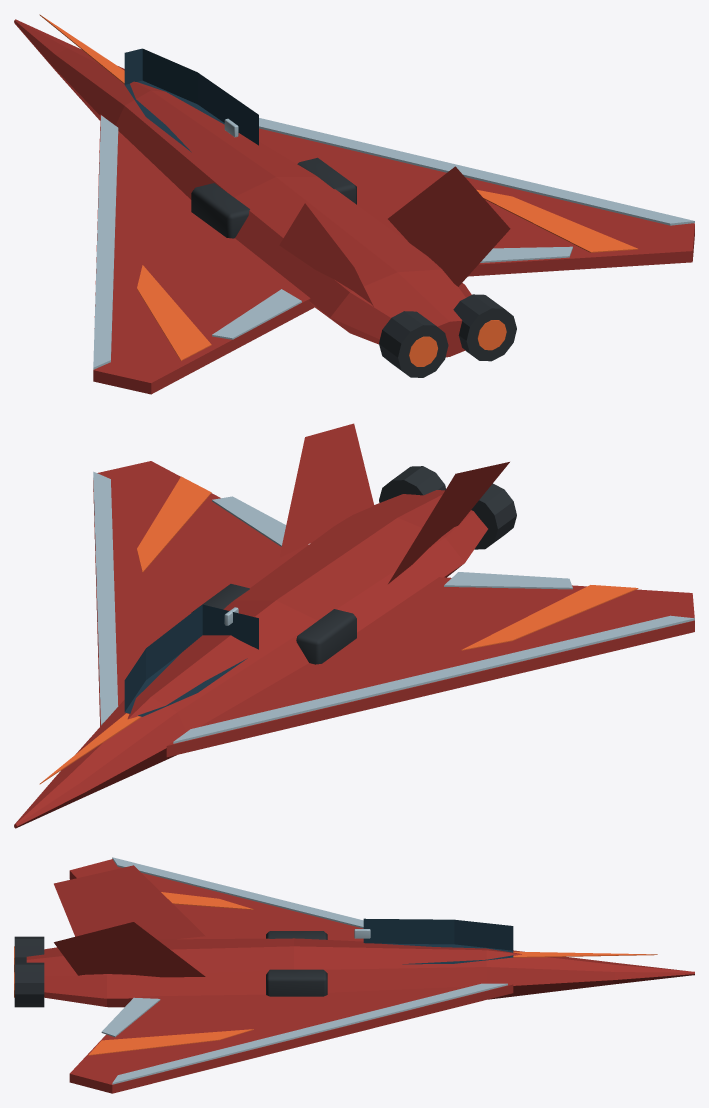
Rendered from jet.glb.
3 views of the same model, one above another, from view 1: azimuth 30°, elevation 25°; view 2: azimuth 150°, elevation 25°; view 3: azimuth 270°, elevation 25° (orthographic). The views are drawn at different scales.
Visible parts, largest first — view 1: Faceted lifting fuselage, Swept delta wing -1, Swept delta wing 1, Canted tail stabilizer 1, Navy armored canopy, Silver leading-edge rail 1, Silver leading-edge rail -1, Canted tail stabilizer -1, Twin jet exhaust -1, Orange wing slash 1, Orange wing slash -1, Twin jet exhaust 1 (+7 smaller); view 2: Faceted lifting fuselage, Swept delta wing -1, Swept delta wing 1, Canted tail stabilizer 1, Silver leading-edge rail -1, Navy armored canopy, Silver leading-edge rail 1, Canted tail stabilizer -1, Orange wing slash -1, Orange wing slash 1, Shoulder intake -1, Twin jet exhaust -1 (+4 smaller); view 3: Faceted lifting fuselage, Swept delta wing 1, Canted tail stabilizer -1, Swept delta wing -1, Canted tail stabilizer 1, Navy armored canopy, Silver leading-edge rail 1, Silver leading-edge rail -1, Shoulder intake 1, Orange wing slash 1, Twin jet exhaust 1, Inset elevon 1 (+4 smaller).
Boxes of the visible parts, left/top/right/bottom form: Faceted lifting fuselage: left=14, top=19, right=471, bottom=357; Swept delta wing -1: left=93, top=114, right=314, bottom=394; Swept delta wing 1: left=259, top=128, right=694, bottom=276; Canted tail stabilizer 1: left=388, top=166, right=510, bottom=286; Navy armored canopy: left=124, top=48, right=258, bottom=152; Silver leading-edge rail 1: left=259, top=118, right=694, bottom=225; Silver leading-edge rail -1: left=93, top=115, right=118, bottom=369; Canted tail stabilizer -1: left=279, top=203, right=373, bottom=306; Twin jet exhaust -1: left=379, top=311, right=448, bottom=377; Orange wing slash 1: left=476, top=189, right=638, bottom=252; Orange wing slash -1: left=137, top=265, right=211, bottom=360; Twin jet exhaust 1: left=453, top=294, right=516, bottom=361; Faceted lifting fuselage: left=14, top=490, right=487, bottom=828; Swept delta wing -1: left=166, top=577, right=694, bottom=757; Swept delta wing 1: left=93, top=461, right=308, bottom=726; Canted tail stabilizer 1: left=279, top=423, right=373, bottom=557; Silver leading-edge rail -1: left=173, top=615, right=694, bottom=743; Navy armored canopy: left=124, top=604, right=258, bottom=716; Silver leading-edge rail 1: left=93, top=471, right=118, bottom=725; Canted tail stabilizer -1: left=388, top=462, right=509, bottom=583; Orange wing slash -1: left=461, top=585, right=638, bottom=650; Orange wing slash 1: left=137, top=476, right=211, bottom=572; Shoulder intake -1: left=296, top=609, right=356, bottom=664; Twin jet exhaust -1: left=471, top=483, right=516, bottom=549; Faceted lifting fuselage: left=26, top=938, right=694, bottom=1007; Swept delta wing 1: left=69, top=984, right=513, bottom=1093; Canted tail stabilizer -1: left=54, top=865, right=205, bottom=939; Swept delta wing -1: left=69, top=859, right=363, bottom=941; Canted tail stabilizer 1: left=54, top=922, right=205, bottom=977; Navy armored canopy: left=363, top=918, right=513, bottom=964; Silver leading-edge rail 1: left=112, top=983, right=507, bottom=1084; Silver leading-edge rail -1: left=112, top=857, right=363, bottom=928; Shoulder intake 1: left=266, top=969, right=327, bottom=996; Orange wing slash 1: left=88, top=1029, right=253, bottom=1055; Twin jet exhaust 1: left=14, top=962, right=44, bottom=1007; Inset elevon 1: left=101, top=997, right=160, bottom=1037.
Bounding box in the file's own units: 10 × 2.21 × 12.74.
